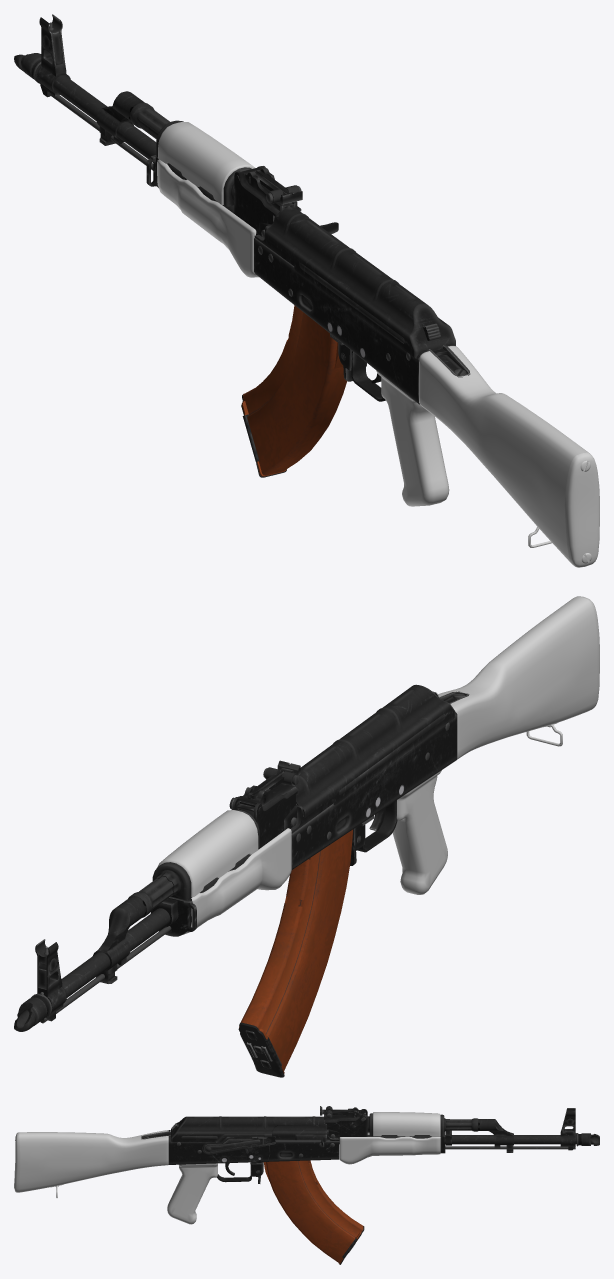
The model's file is AKM.fbx.
The picture shows the model from 3 angles, top to bottom: view 1: azimuth 30°, elevation 25°; view 2: azimuth 150°, elevation 25°; view 3: azimuth 270°, elevation 25°; orthographic projection. The views are drawn at different scales.
Parts seen in each view (by area): view 1: AKM_wooden_furniture, AKM_body, AKM_bakelite_mag30rds; view 2: AKM_body, AKM_wooden_furniture, AKM_bakelite_mag30rds; view 3: AKM_body, AKM_wooden_furniture, AKM_bakelite_mag30rds.
Part boxes in pixels (x1,y1,x2,y2): AKM_wooden_furniture: (157, 122, 599, 567); AKM_body: (14, 14, 470, 404); AKM_bakelite_mag30rds: (241, 305, 347, 477); AKM_body: (14, 684, 469, 1031); AKM_wooden_furniture: (157, 596, 599, 934); AKM_bakelite_mag30rds: (238, 829, 353, 1077); AKM_body: (141, 1106, 599, 1183); AKM_wooden_furniture: (14, 1112, 440, 1224); AKM_bakelite_mag30rds: (263, 1160, 364, 1264).
Size of the model in its own units: 6.82 by 25.88 by 89.53.
